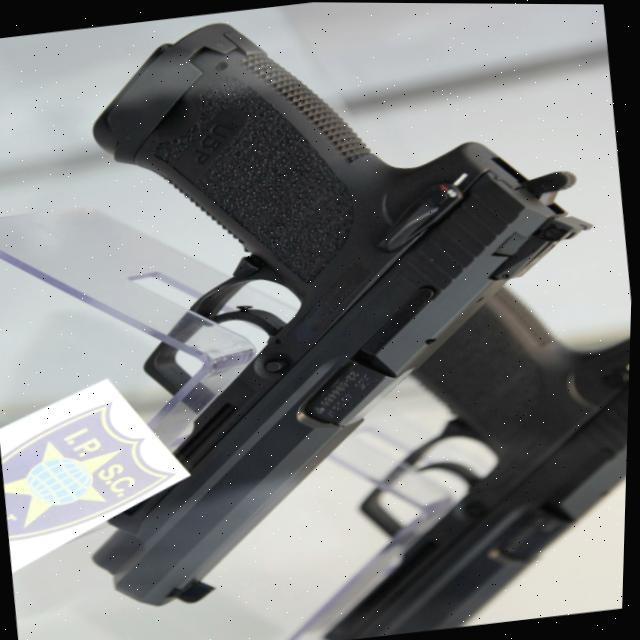pistol: (26, 0, 640, 619), (283, 264, 634, 640)
